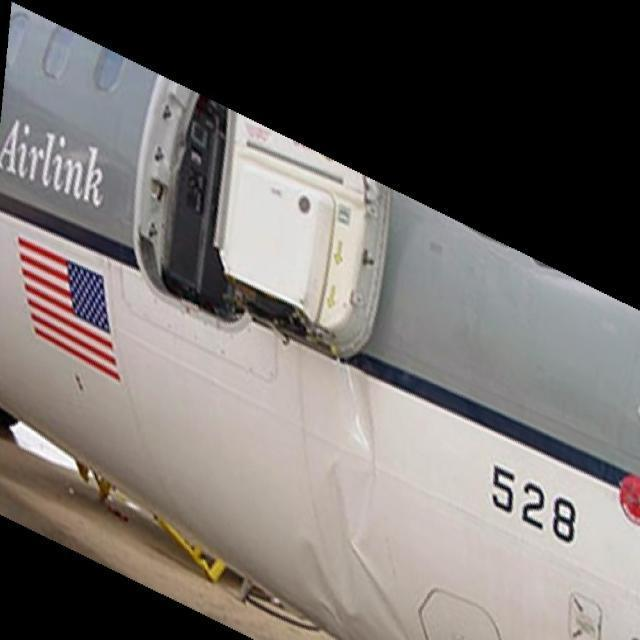dent: (298, 367, 409, 640)
